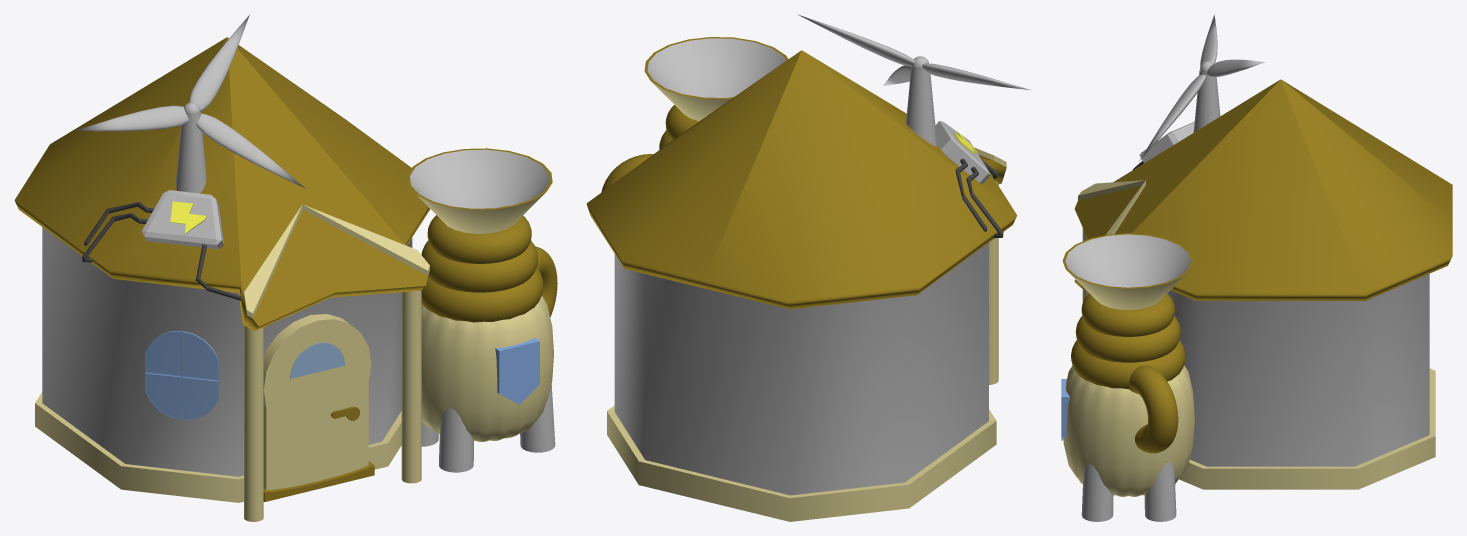
File: hub.fbx
The picture shows the model from 3 angles, left to right: view 1: azimuth 30°, elevation 25°; view 2: azimuth 150°, elevation 25°; view 3: azimuth 270°, elevation 25°; orthographic projection. The views are drawn at different scales.
Parts seen in each view (by area): view 1: hub; view 2: hub; view 3: hub.
Boxes of the visible parts, x1,y1,x2,y2 form: hub: [14, 14, 557, 521]; hub: [586, 14, 1030, 521]; hub: [1061, 14, 1452, 521].
Bounding box in the file's own units: 29.78 × 25.78 × 24.81.
